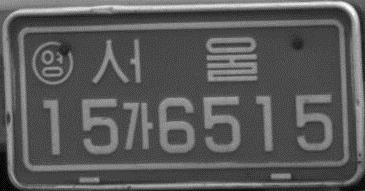1: (39, 96, 65, 157), (252, 93, 277, 155)
5: (79, 96, 120, 156), (293, 92, 334, 152), (201, 94, 241, 154)
6: (156, 96, 196, 156)
가: (121, 100, 154, 153)
서울_D: (91, 35, 262, 88)
영: (30, 39, 75, 87)
